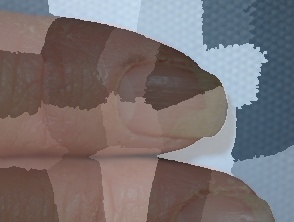Nail_psoriasis: (97, 15, 251, 166), (192, 163, 288, 222)
